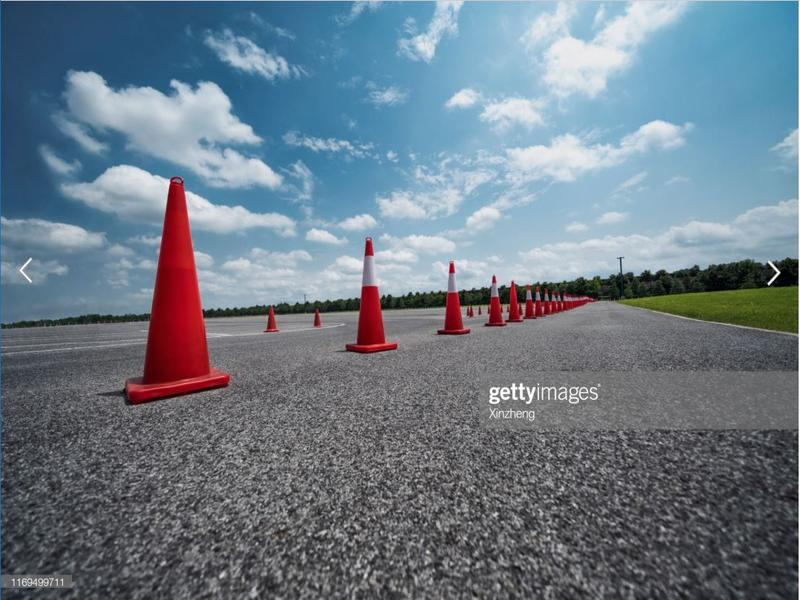Cone: (124, 176, 230, 405), (506, 280, 522, 323), (264, 306, 280, 332), (313, 309, 322, 328), (468, 306, 475, 318)
